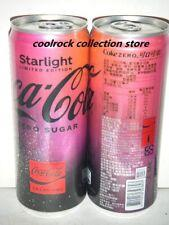metal: (9, 15, 167, 212)
